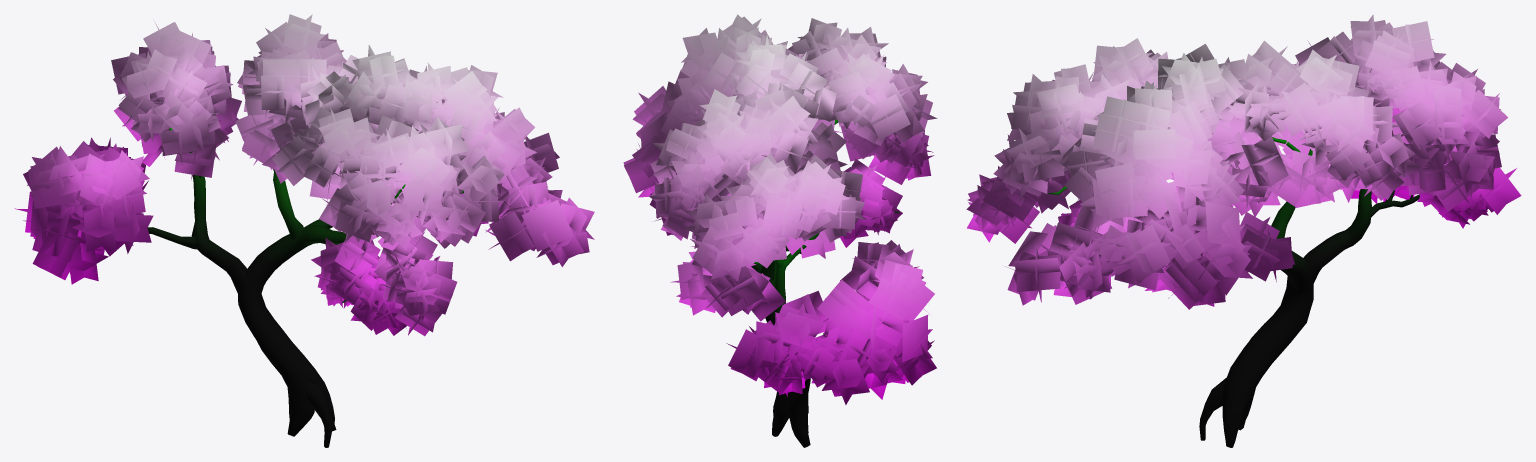
File: TSI_Blossom_Tree_01A.fbx
The picture shows the model from 3 angles, left to right: view 1: azimuth 30°, elevation 25°; view 2: azimuth 150°, elevation 25°; view 3: azimuth 270°, elevation 25°; orthographic projection. The views are drawn at different scales.
Parts seen in each view (by area): view 1: TSI_Blossom_Tree_01A_LOD0; view 2: TSI_Blossom_Tree_01A_LOD0; view 3: TSI_Blossom_Tree_01A_LOD0.
Part boxes in pixels (x1=…): TSI_Blossom_Tree_01A_LOD0: x1=14, y1=14, x2=594, y2=447; TSI_Blossom_Tree_01A_LOD0: x1=623, y1=14, x2=937, y2=447; TSI_Blossom_Tree_01A_LOD0: x1=966, y1=14, x2=1521, y2=447.
Bounding box in the file's own units: 1542 × 1363 × 1680.
